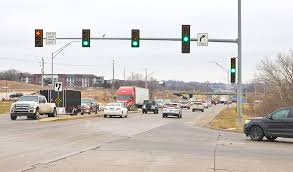signal: (182, 25, 190, 53), (82, 28, 91, 47), (34, 29, 43, 47), (230, 57, 236, 82), (131, 29, 139, 47)
